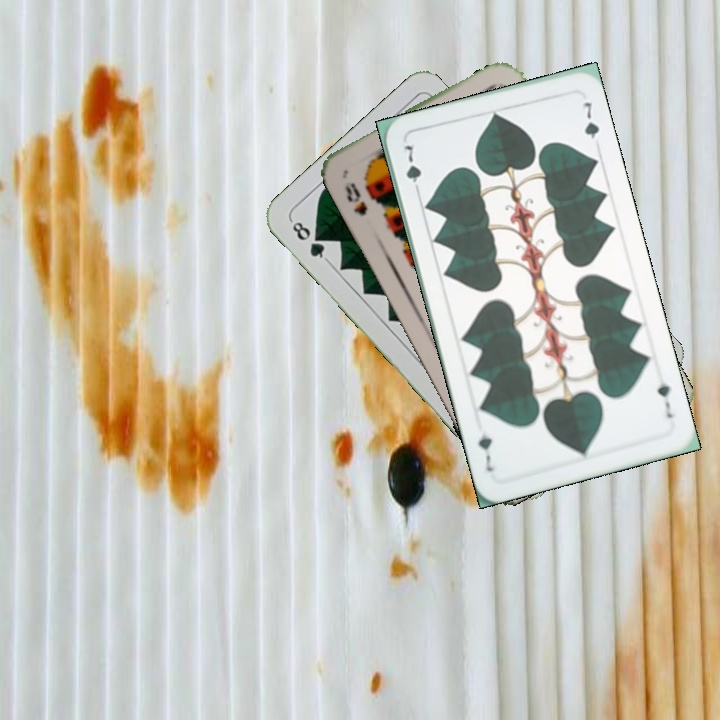G7: (399, 141, 424, 197), (653, 371, 675, 421)
G8: (287, 216, 331, 264)
S8: (341, 178, 370, 218)
